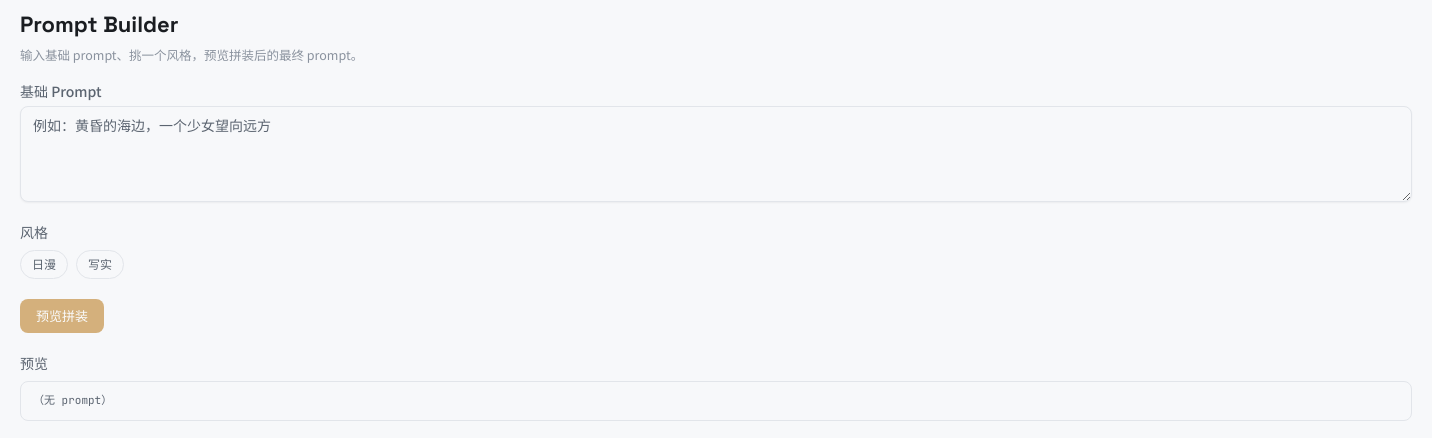
PromptBuilder (container build flow) › inputs a prompt, picks a style, builds, and shows the assembled preview
The image size is (1432, 438).
In the text box labelled "基础 Prompt": (716, 154) [20, 106, 1412, 202], type "海边少女"
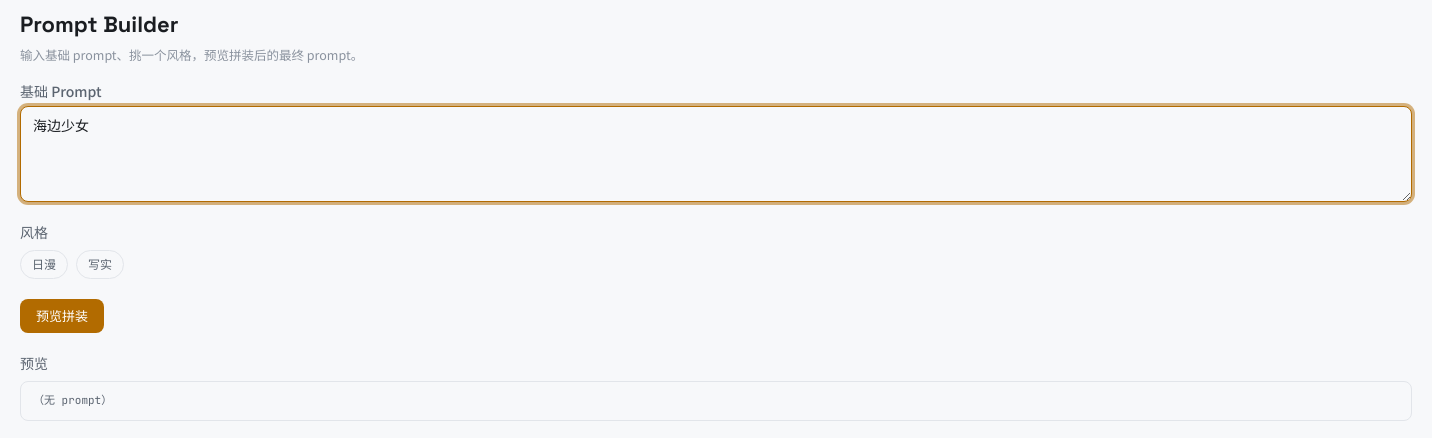
Click the button "日漫": click(44, 265) [20, 250, 68, 279]
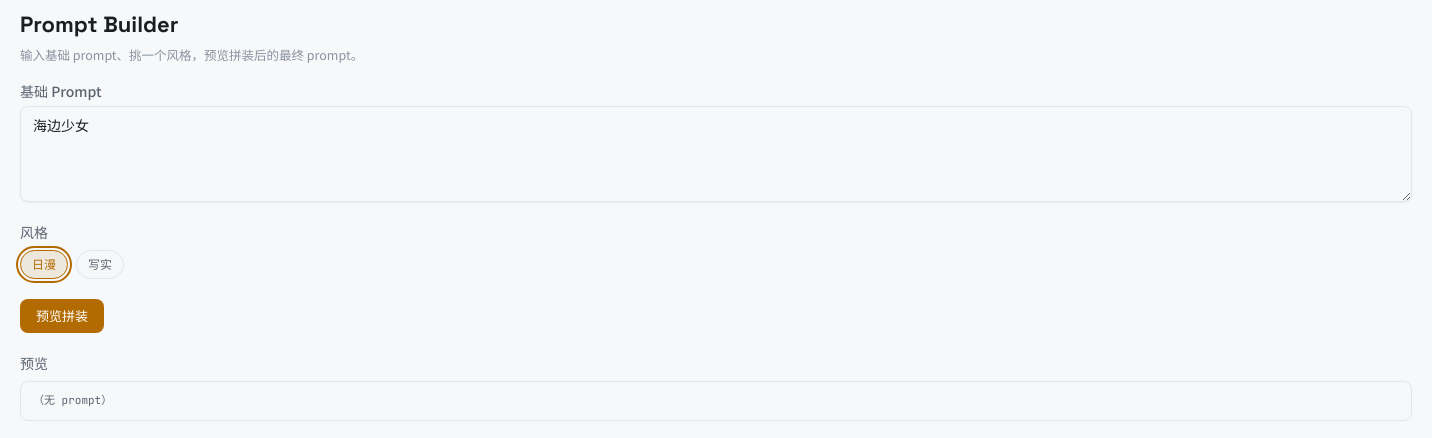
Click the button "预览拼装": click(62, 316) [20, 299, 104, 333]
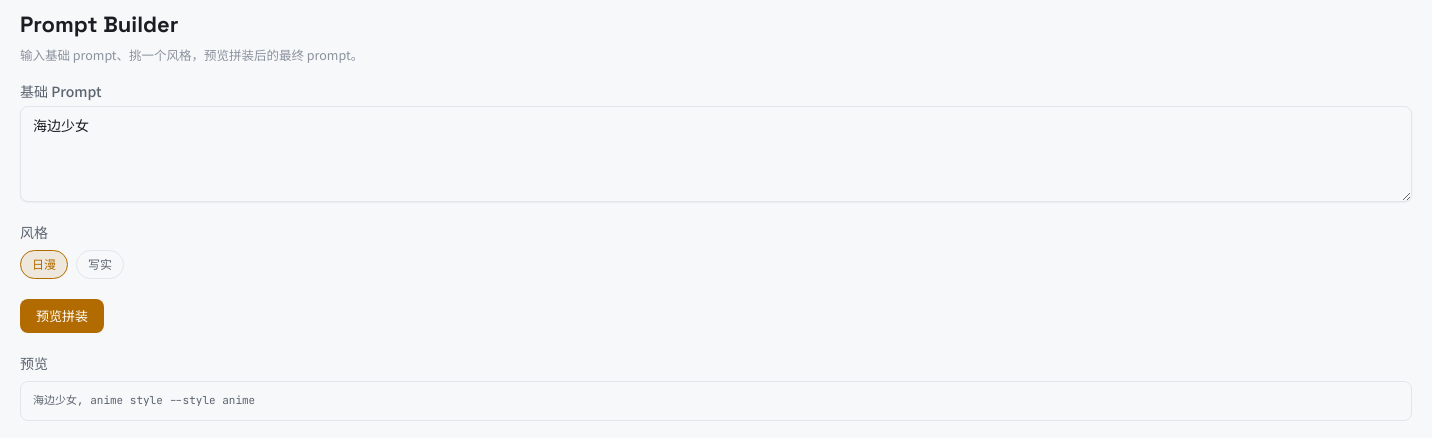
expect the text "海边少女, anime style --style anime" is shown: met, box [20, 381, 1412, 421]
